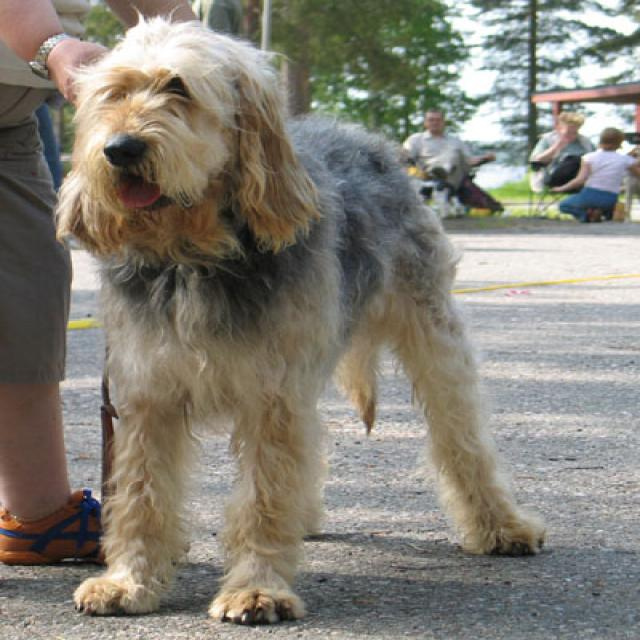good: (47, 14, 552, 616)
